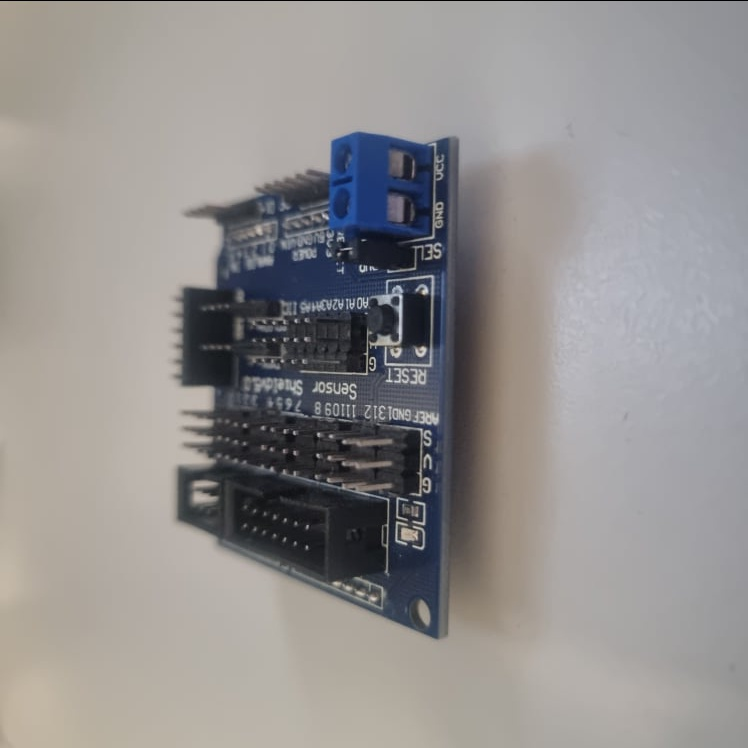5V EXPANSION: (156, 125, 457, 640)
